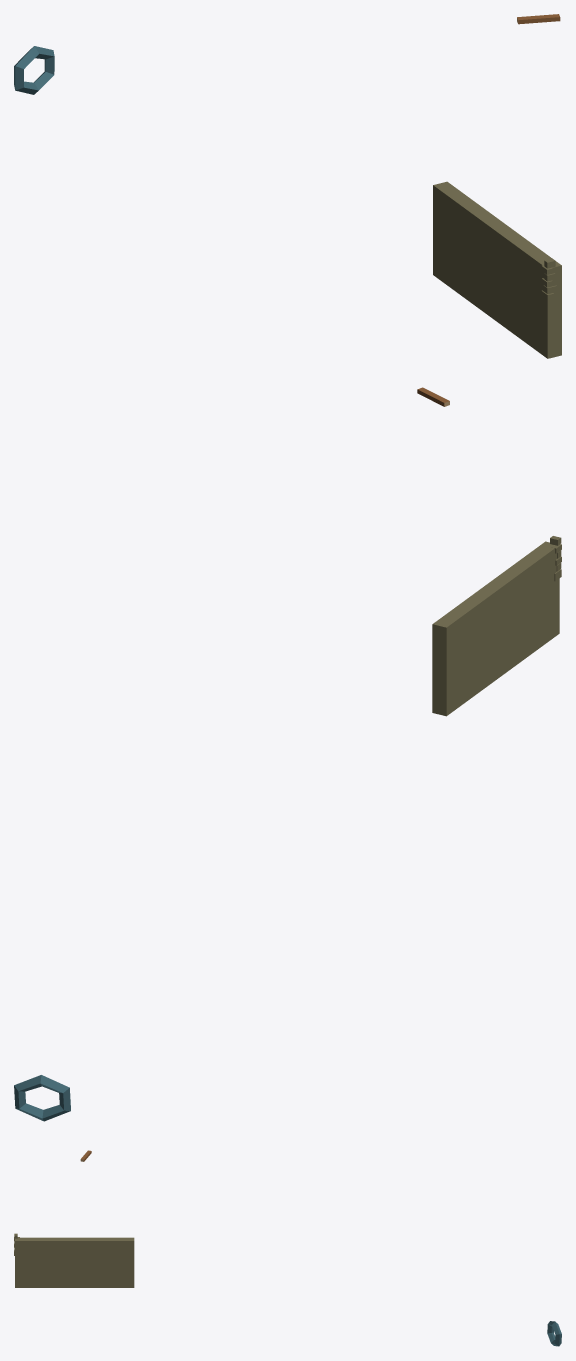
The picture shows the model from 3 angles, top to bottom: view 1: azimuth 30°, elevation 25°; view 2: azimuth 150°, elevation 25°; view 3: azimuth 270°, elevation 25°; orthographic projection. The views are drawn at different scales.
Parts seen in each view (by area): view 1: Box190_rock2_0, Torus046_metal_0, Box15499_rock2_0; view 2: Box190_rock2_0, Torus046_metal_0; view 3: Box190_rock2_0, Torus046_metal_0.
Boxes of the visible parts, box(x1,y1,x2,y2) form: Box190_rock2_0: box(433, 181, 561, 358); Torus046_metal_0: box(14, 46, 54, 94); Box15499_rock2_0: box(541, 258, 556, 302); Box190_rock2_0: box(432, 541, 559, 716); Torus046_metal_0: box(14, 1075, 70, 1121); Box190_rock2_0: box(15, 1237, 134, 1287); Torus046_metal_0: box(547, 1321, 561, 1346).
Bounding box in the file's own units: 673 × 2627 × 6371.
